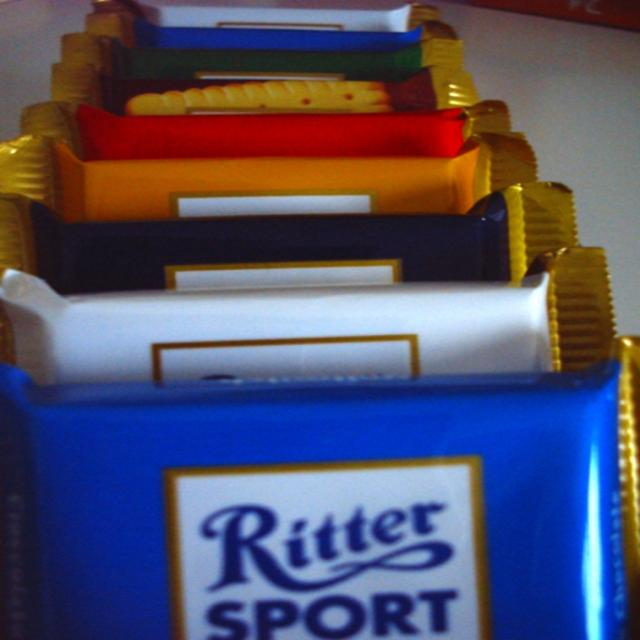rittersport: (165, 459, 487, 640)
